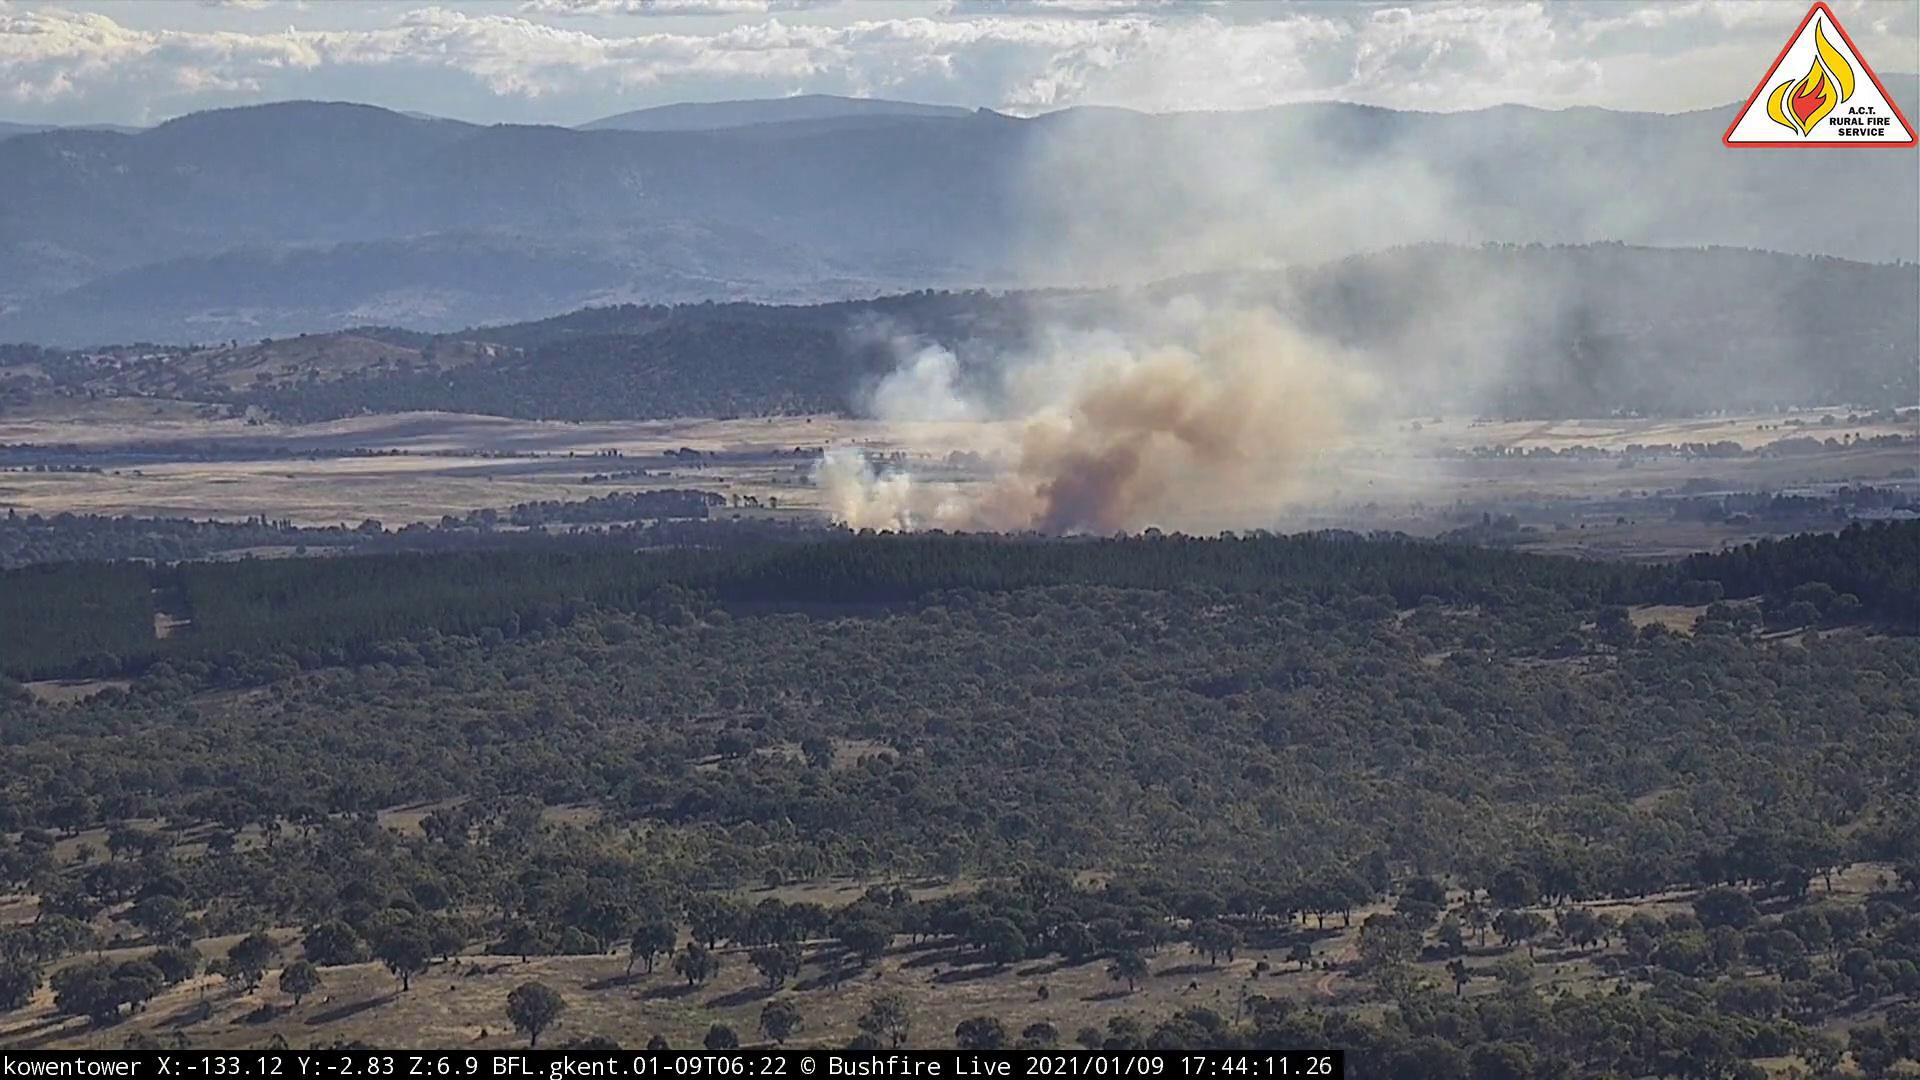Smoke: (787, 55, 1716, 546)
